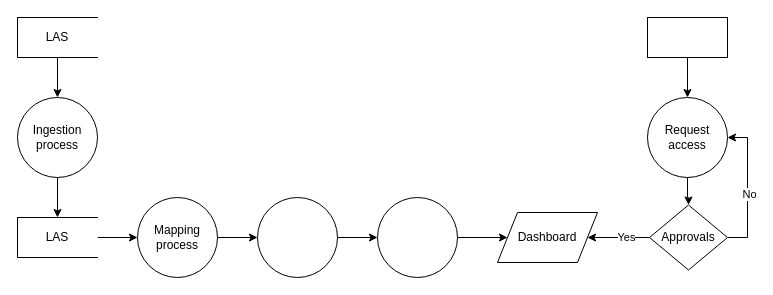
Image size: 773x295. Some labels were removed from this diagram. The box of each missing label's shape, as (x1, y1, x2, y2) in pixels:
Build dashboard: (376, 196, 458, 278)
Modelling process: (256, 196, 338, 278)
User: (646, 16, 728, 58)
